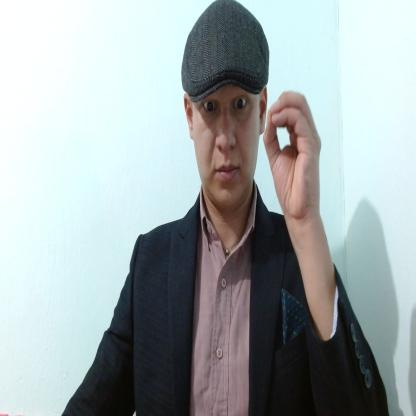O: (263, 88, 323, 218)
